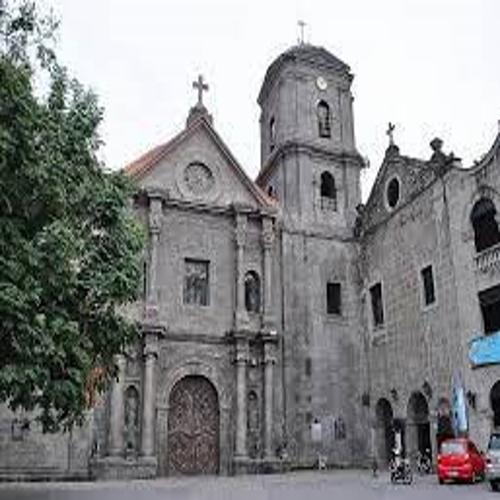San Agustin Church: (98, 11, 374, 482)
